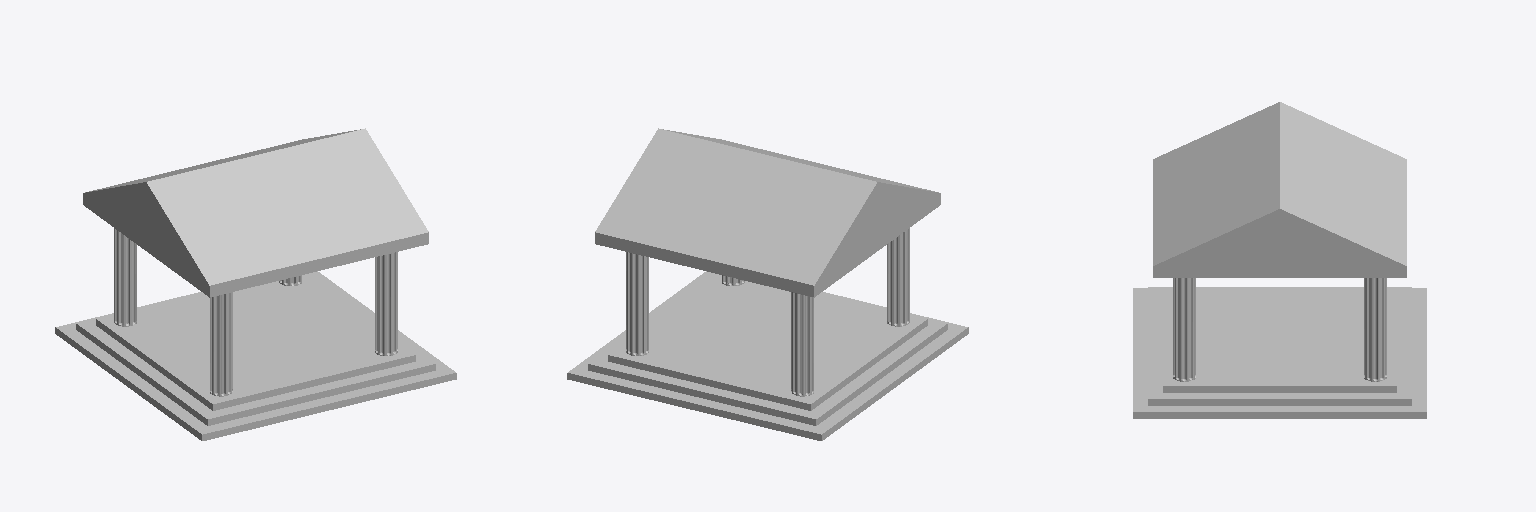
File: temple.obj
3 views of the same model, side by side, from view 1: azimuth 30°, elevation 25°; view 2: azimuth 150°, elevation 25°; view 3: azimuth 270°, elevation 25° (orthographic).
Bounding box in the file's own units: 10 × 7.58 × 10.